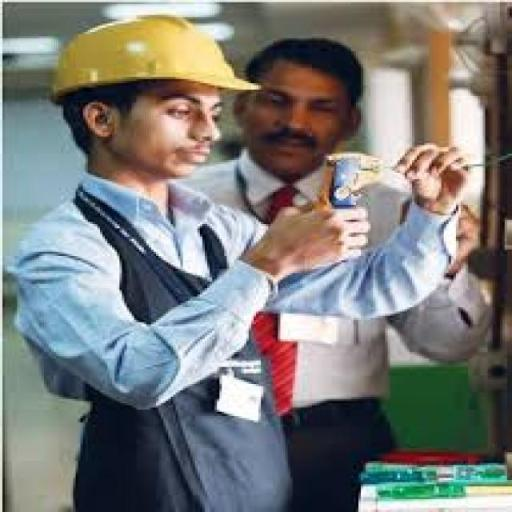helmet: (42, 8, 258, 110)
